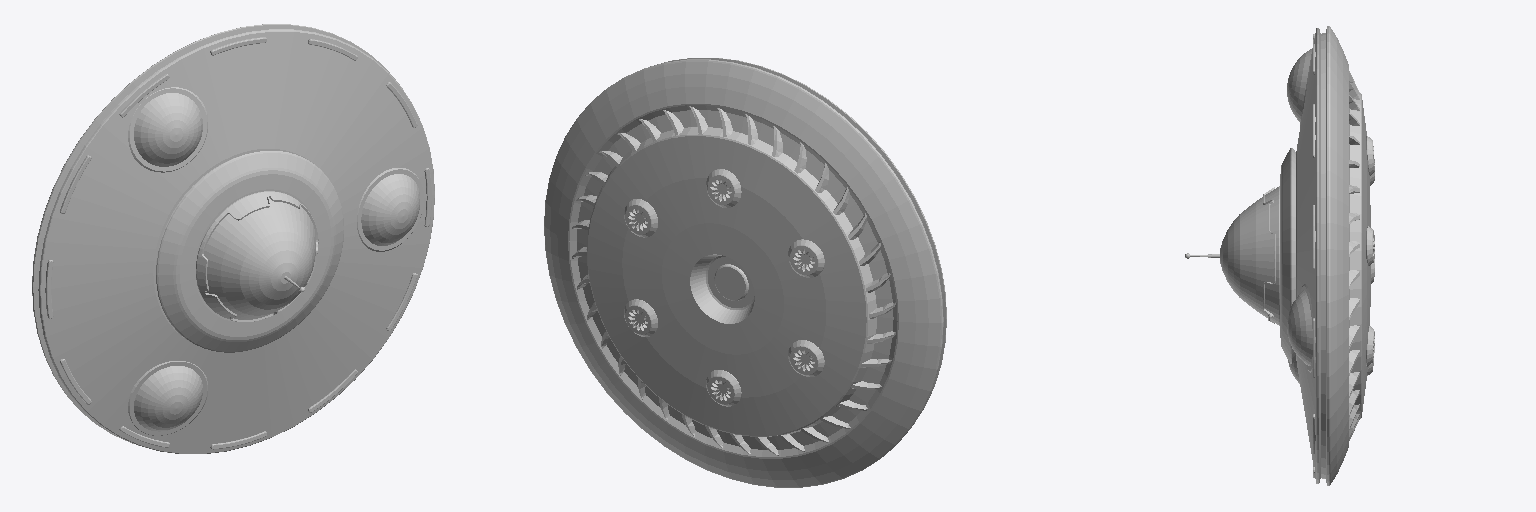
File: Ovni.obj
3 renders of one model, left to right at view 1: azimuth 30°, elevation 25°; view 2: azimuth 150°, elevation 25°; view 3: azimuth 270°, elevation 25°, orthographic.
Visible parts, largest first — view 1: Object.1; view 2: Object.1; view 3: Object.1.
Part boxes in pixels (x1,y1,x2,y2): Object.1: (32,24,434,453); Object.1: (544,58,946,487); Object.1: (1185,26,1374,485).
Size of the model in its own units: 973 by 972 by 401.